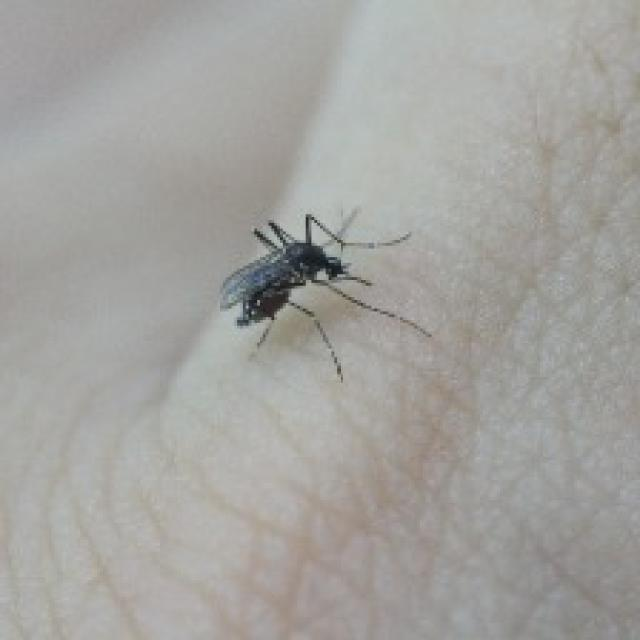aedes: (214, 203, 432, 383)
